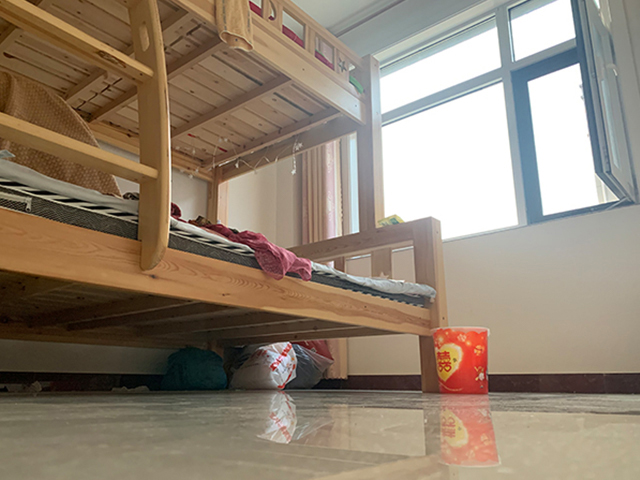bed: (1, 1, 447, 393)
curtain: (301, 138, 350, 380)
trashcan: (430, 325, 491, 396)
